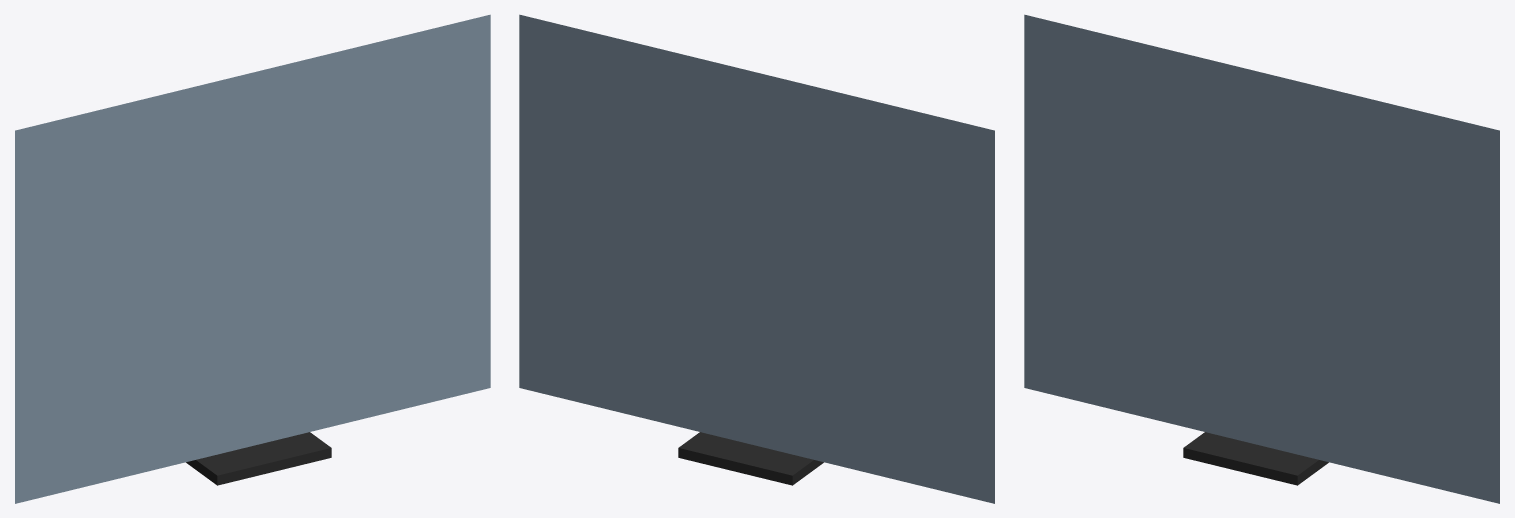
File: cutout.glb
3 renders of one model, left to right at view 1: azimuth 30°, elevation 25°; view 2: azimuth 150°, elevation 25°; view 3: azimuth 330°, elevation 25°, orthographic.
Parts seen in each view (by area): view 1: Picture, Stand; view 2: Picture, Stand; view 3: Picture, Stand.
Boxes of the visible parts, box(x1,y1,x2,y2) form: Picture: box(15, 14, 490, 503); Stand: box(186, 432, 331, 485); Picture: box(519, 14, 994, 503); Stand: box(678, 432, 823, 485); Picture: box(1024, 14, 1499, 503); Stand: box(1183, 432, 1328, 485).
Size of the model in its own units: 1.5 by 1.15 by 0.24.
